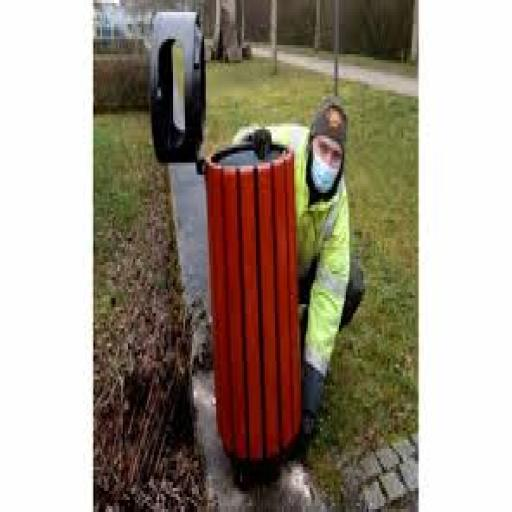poubelle_vide: (133, 3, 305, 451)
